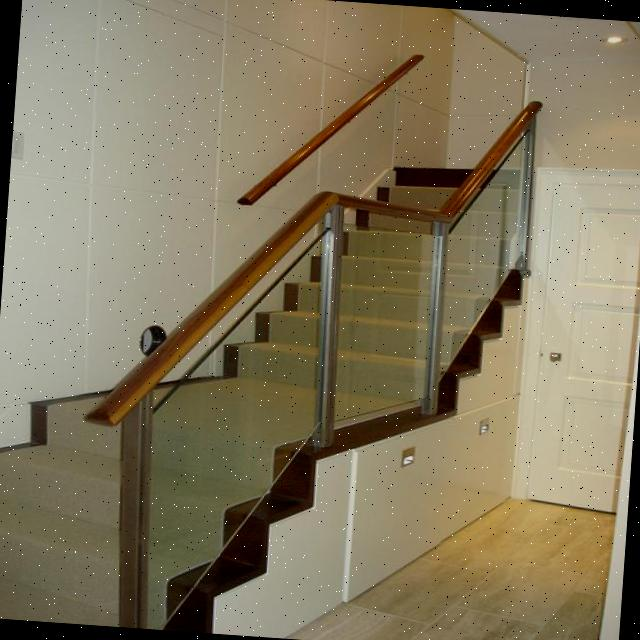stairs: (0, 132, 530, 640)
